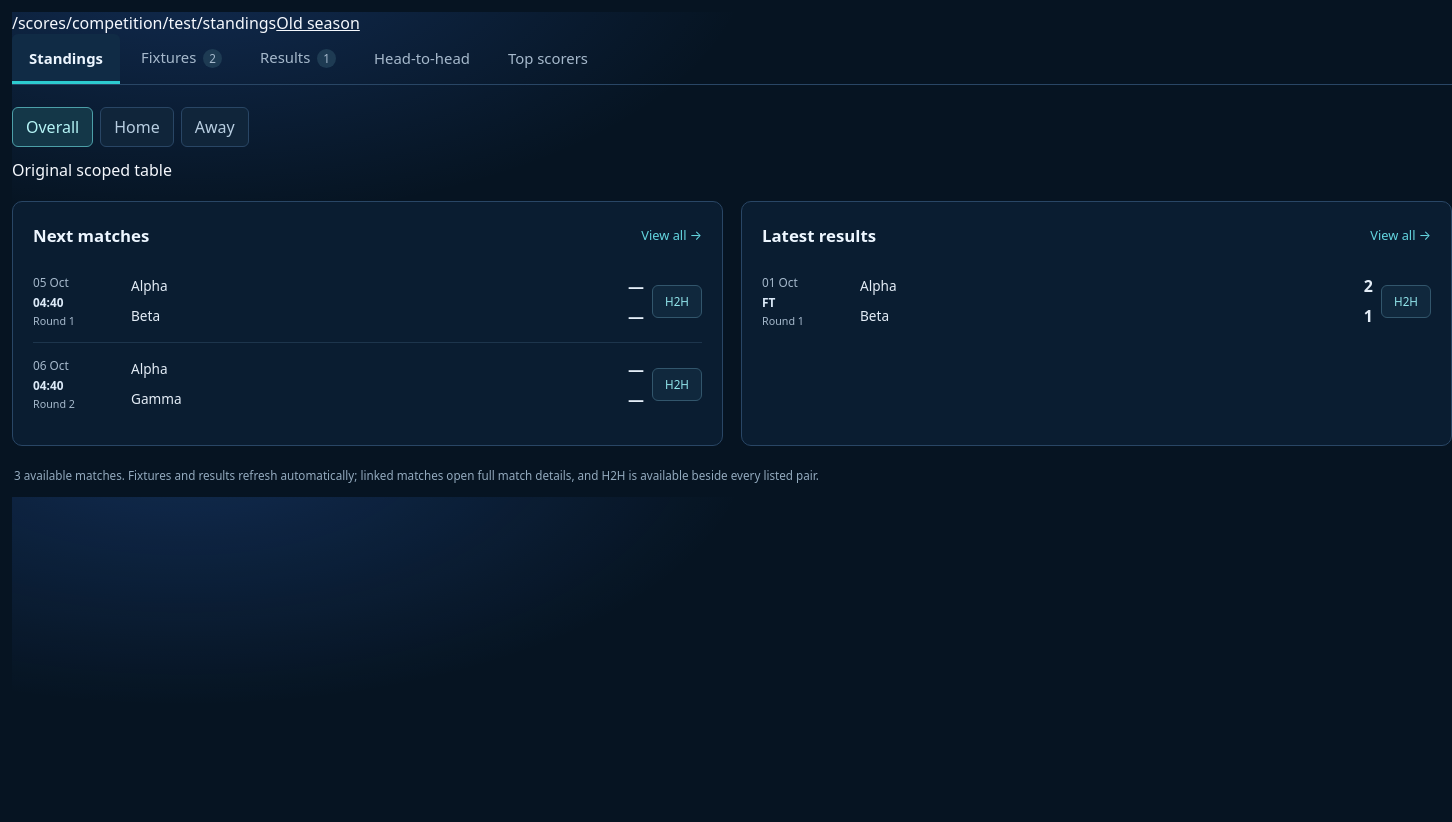
Test: uses supplied home/away tables but keeps original overall table
Click the button "Home": (137, 127) [100,107,174,147]
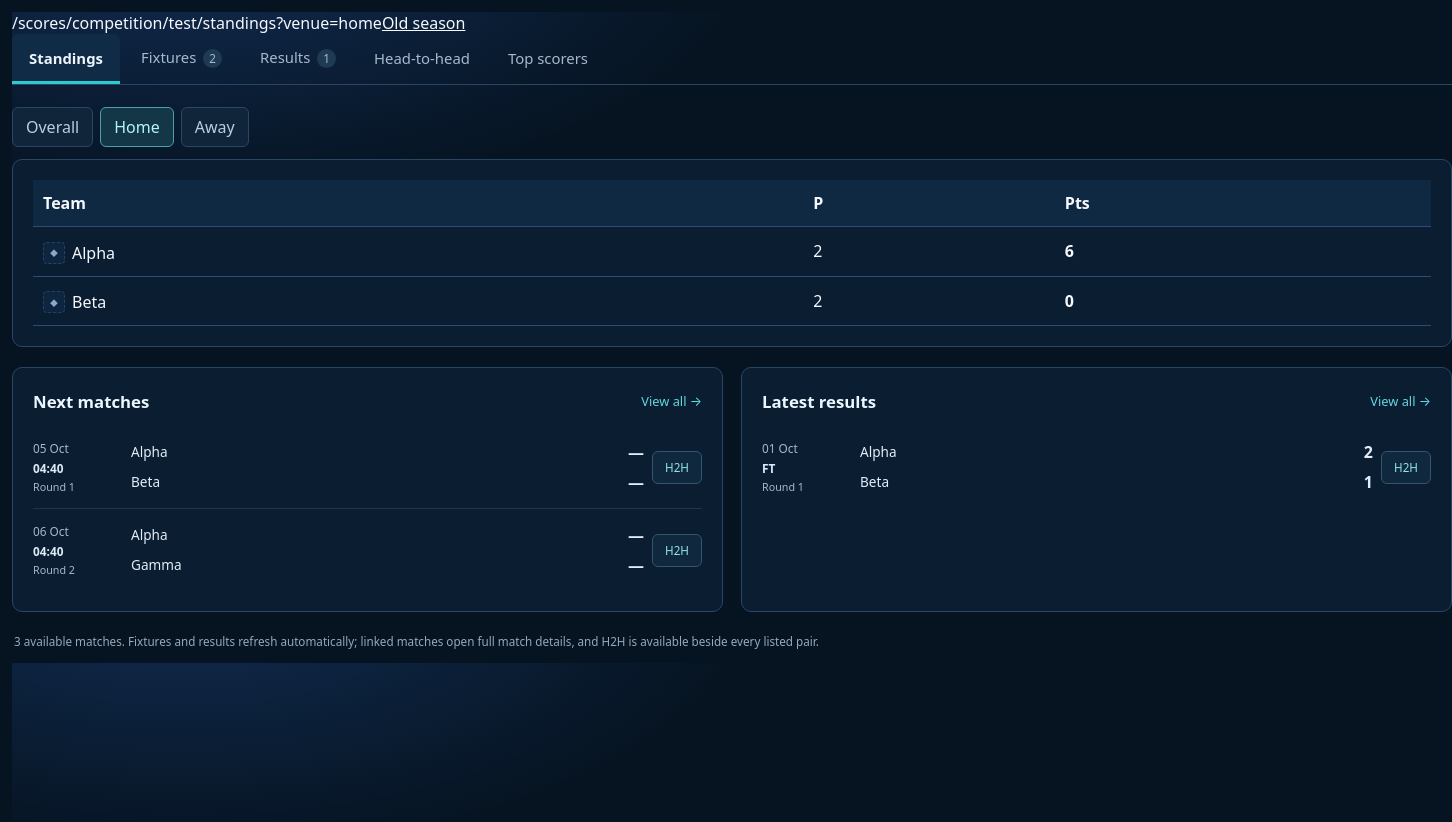
expect the table is shown: met, box [33,180,1431,326]
Click the button "Overall": (53, 127) [12,107,93,147]
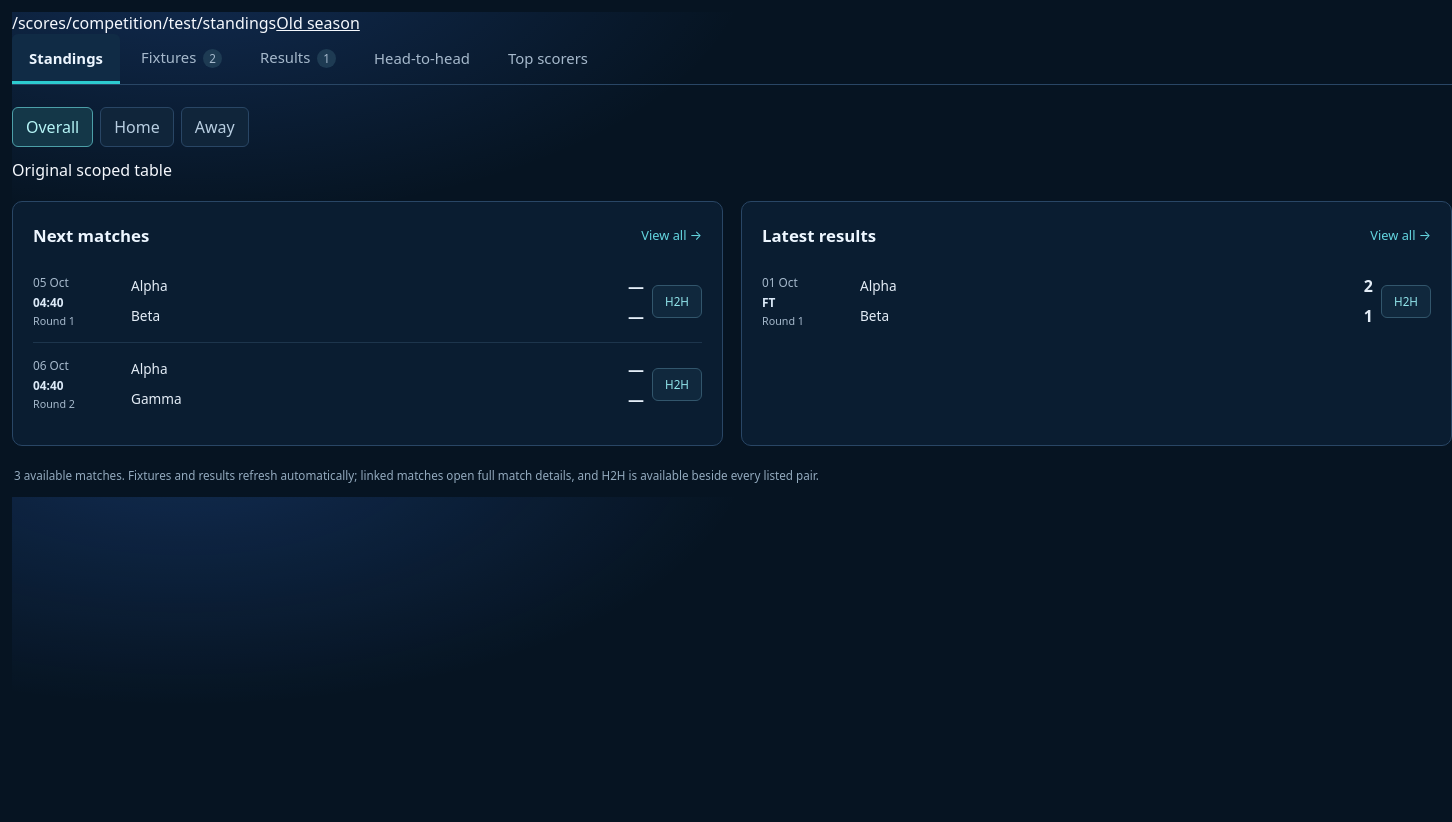
expect the text "Original scoped table" is shown: met, box [12,159,172,181]
